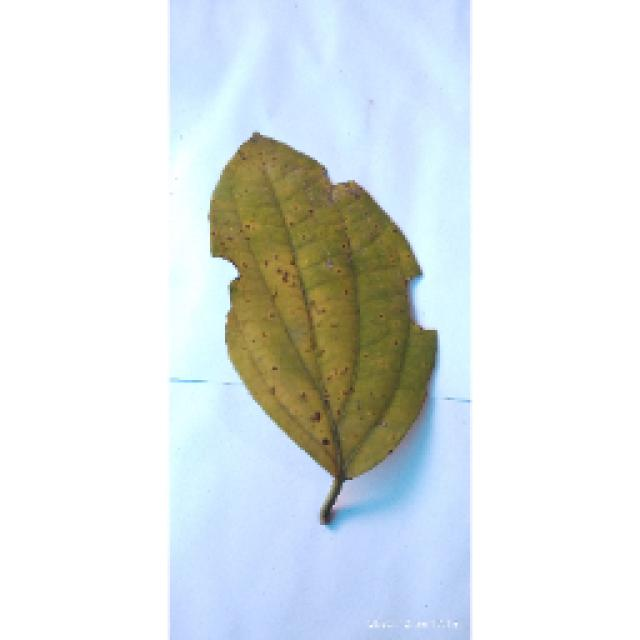slow-decline: (202, 128, 440, 518)
